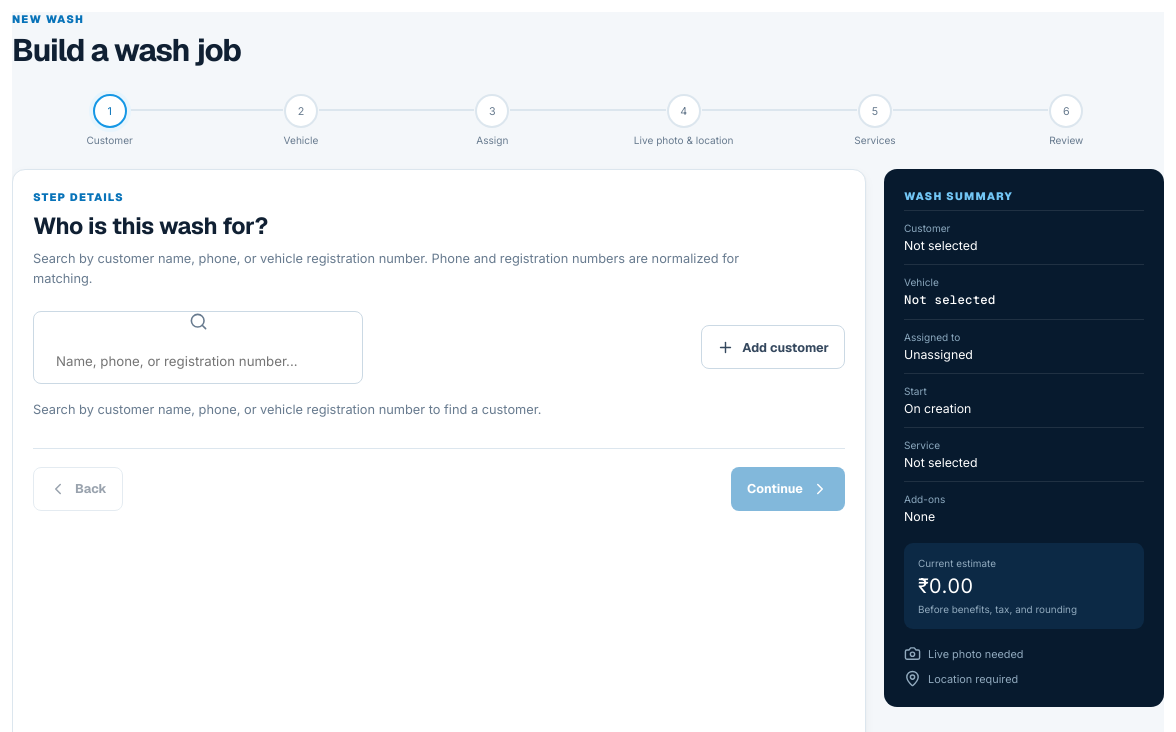
Test case: New Wash — staff customer search privacy › entering a customer name displays matching results
Type "Test" into the search field with placeholder "Name, phone, or registration number..." at {"x": 198, "y": 361}, box [45,339,351,383]
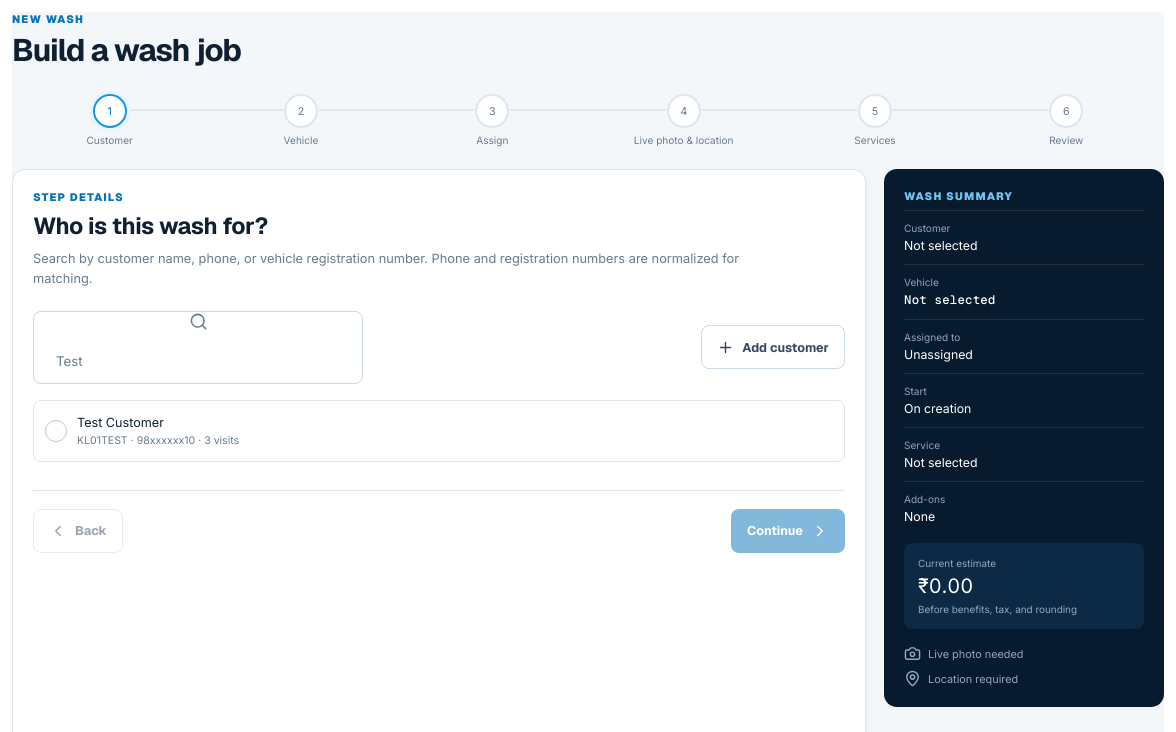
Now the text "Test Customer" is shown, box [77,415,164,430]
Now the text "Search by customer name, phone, or vehicle registration number to find a customer." is gone
